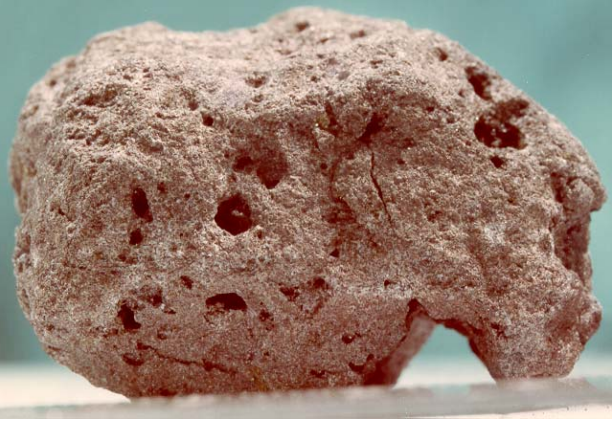Basalt: (42, 22, 568, 372), (185, 76, 525, 307)
